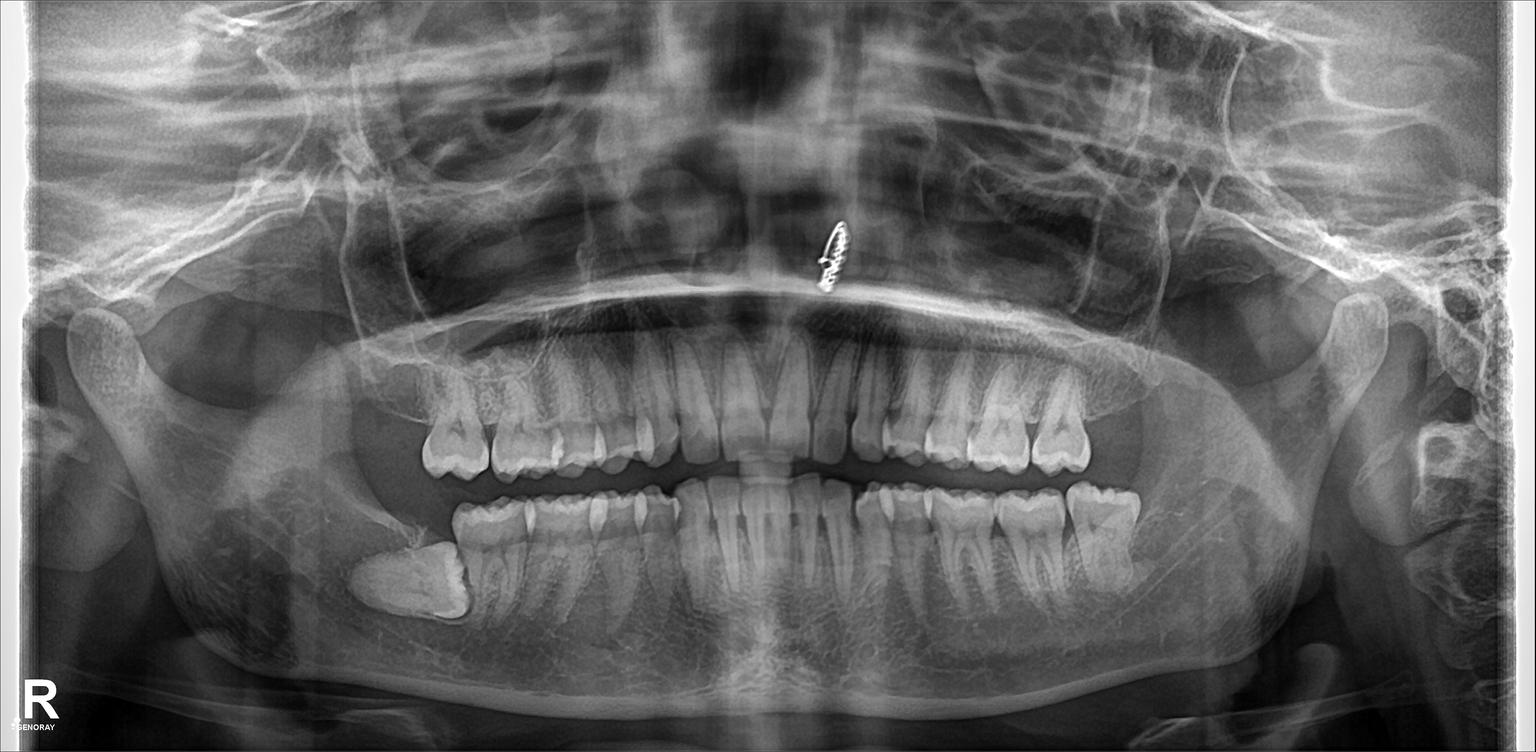Impacted Third Molar: (348, 553, 469, 621)
Missing Tooth: (320, 370, 380, 460), (1084, 367, 1132, 469), (385, 370, 425, 462)
